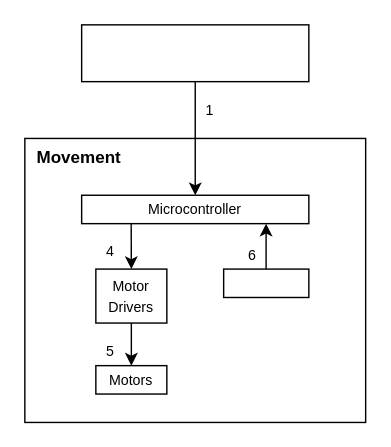
This 391x447 diagram has some shape labels left out. Here are the shapes that lost their labels. From the top down, the centre of each, then its label:
At pixel 194 52: "Raspberry Pi".
At pixel 265 282: "Sonar".
